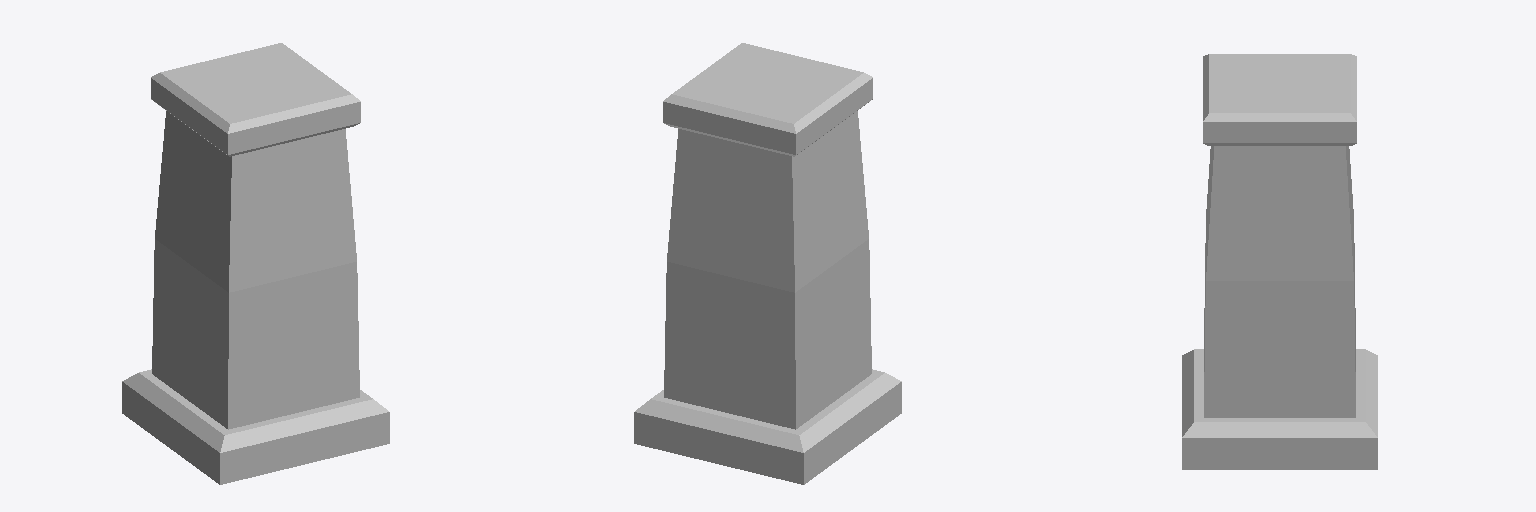
Rendered from Column.obj.
The picture shows the model from 3 angles: view 1: azimuth 30°, elevation 25°; view 2: azimuth 150°, elevation 25°; view 3: azimuth 270°, elevation 25°; orthographic projection.
Parts seen in each view (by area): view 1: Column_Cube; view 2: Column_Cube; view 3: Column_Cube.
Part boxes in pixels (x1,y1,x2,y2): Column_Cube: (122,43,389,484); Column_Cube: (634,43,901,484); Column_Cube: (1182,54,1377,469).
Size of the model in its own units: 1.77 by 3.45 by 1.77.